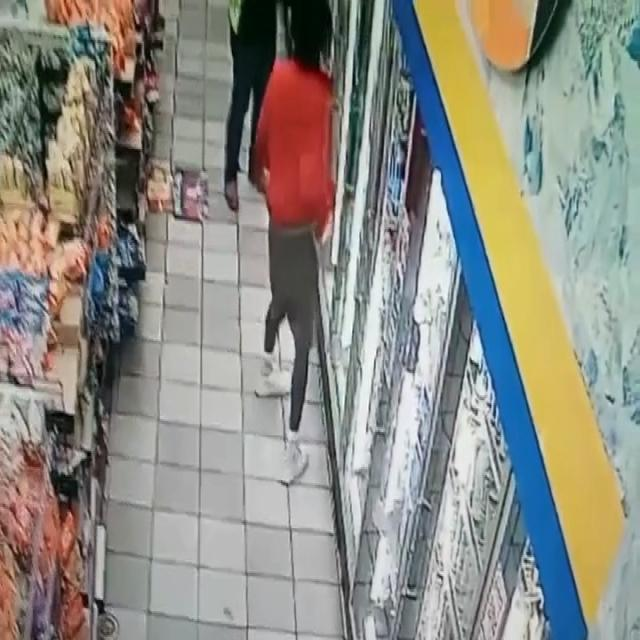Normal: (253, 0, 350, 496)
